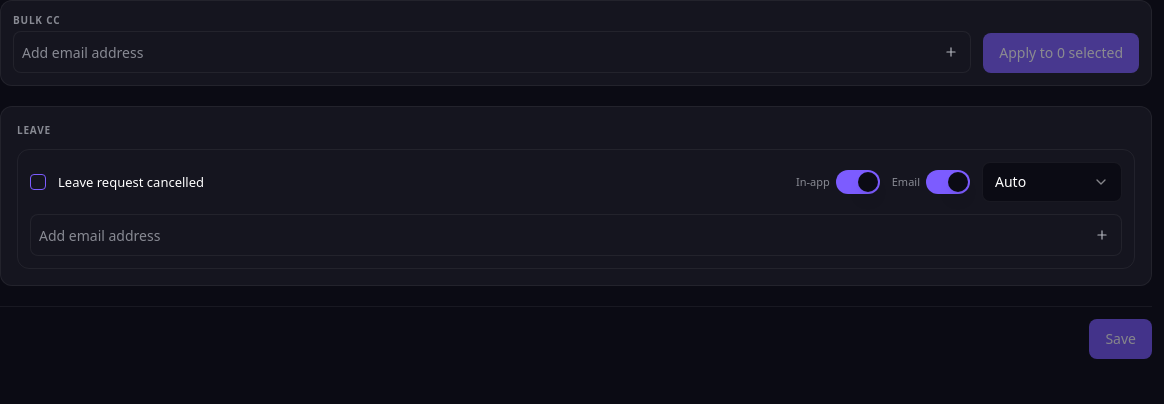
Test: NotificationRoutingTab — email_default caution › appears as soon as the admin adds the CC, not only on reload
This screenshot has width=1164, height=404.
Expected: the text "Leave request cancelled" is shown, [58,173,204,191]
In the field with placeholder "Add email address": (562, 235) [39,221,1085,249], type "hr@provintell.com"
Then press Enter
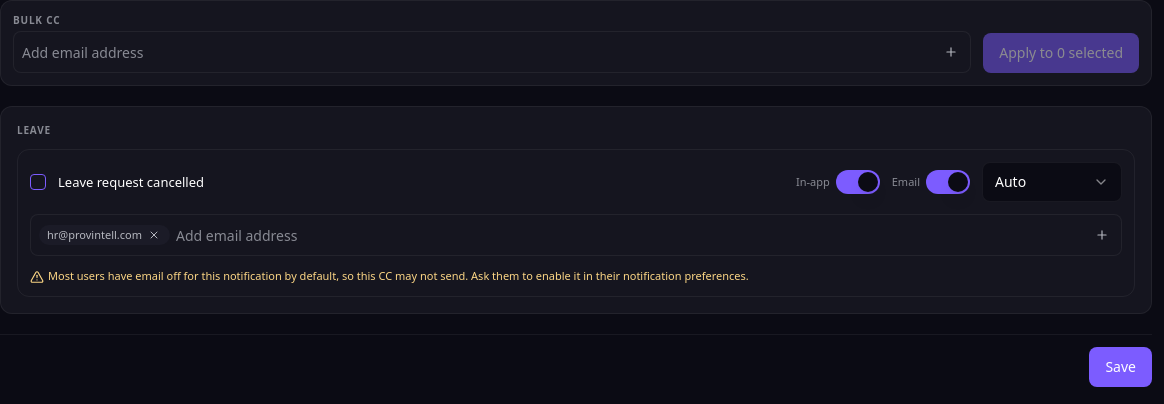
Expected: the text "may not send" is shown, [48,268,749,283]
